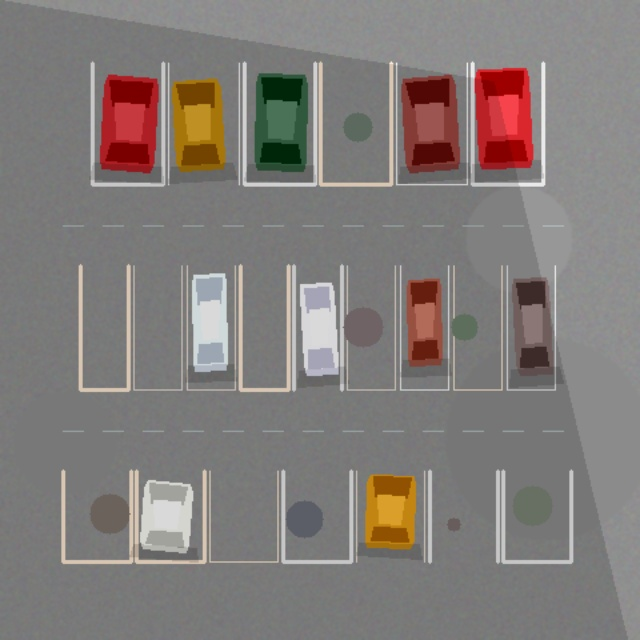space-empty: (320, 63, 391, 184), (63, 471, 131, 561), (209, 471, 277, 561), (283, 471, 351, 561), (429, 471, 497, 561), (503, 471, 571, 561), (80, 265, 128, 389), (133, 265, 181, 389), (240, 265, 288, 389), (347, 265, 395, 389), (453, 265, 501, 389)
space-occupied: (92, 63, 163, 184), (168, 63, 239, 184), (244, 63, 315, 184), (396, 63, 467, 184), (472, 63, 543, 184), (136, 471, 204, 561), (356, 471, 424, 561), (187, 265, 235, 389), (293, 265, 341, 389), (400, 265, 448, 389), (507, 265, 555, 389)
